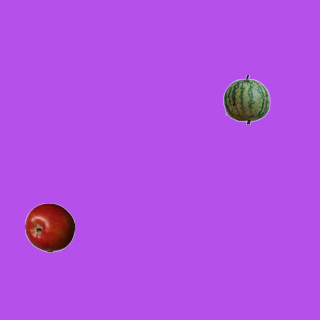Apple Braeburn: (24, 202, 74, 252)
Watermelon: (221, 74, 271, 124)
